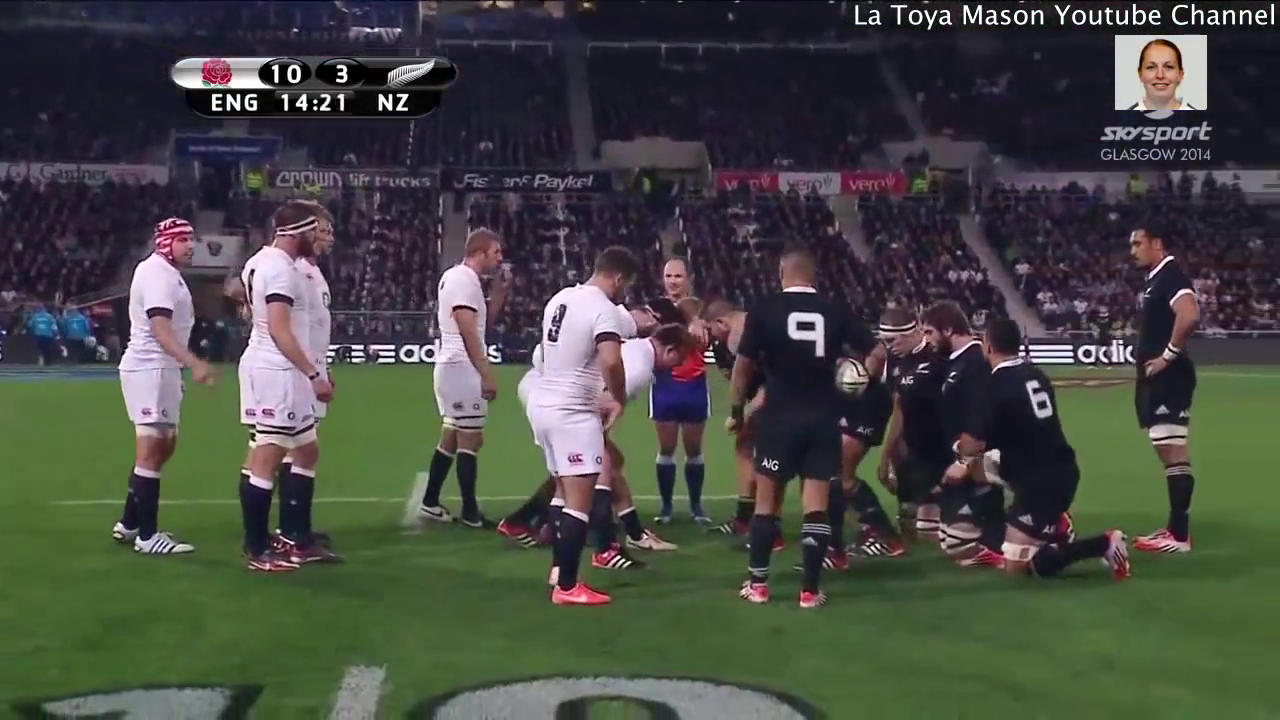player: (956, 317, 1138, 596), (720, 244, 852, 620), (104, 200, 224, 562), (221, 197, 327, 587), (398, 216, 516, 545), (1108, 217, 1216, 567), (536, 240, 633, 615), (642, 241, 725, 536), (873, 300, 940, 536), (921, 304, 990, 495)
